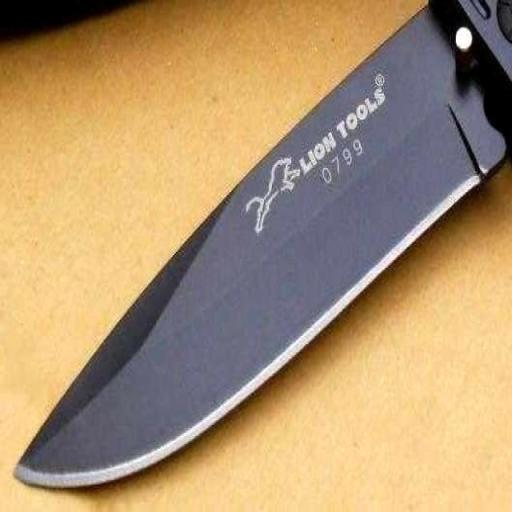knife: (9, 0, 512, 499)
